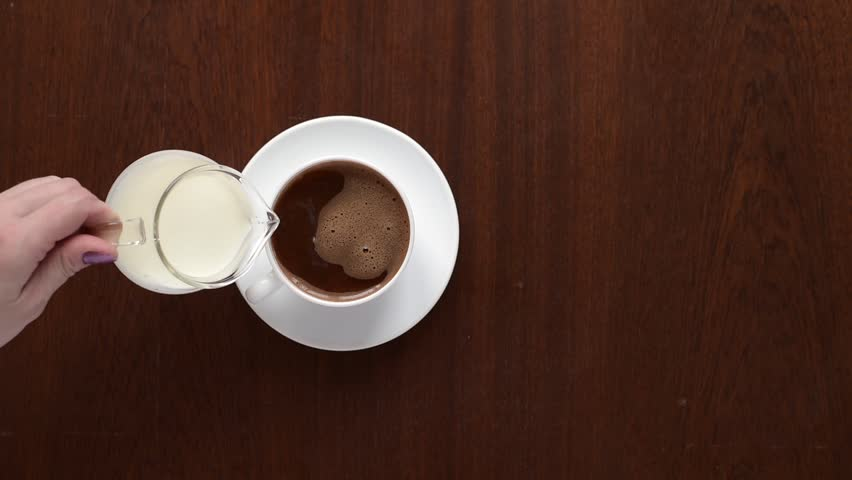glass of milk: (105, 145, 255, 301)
